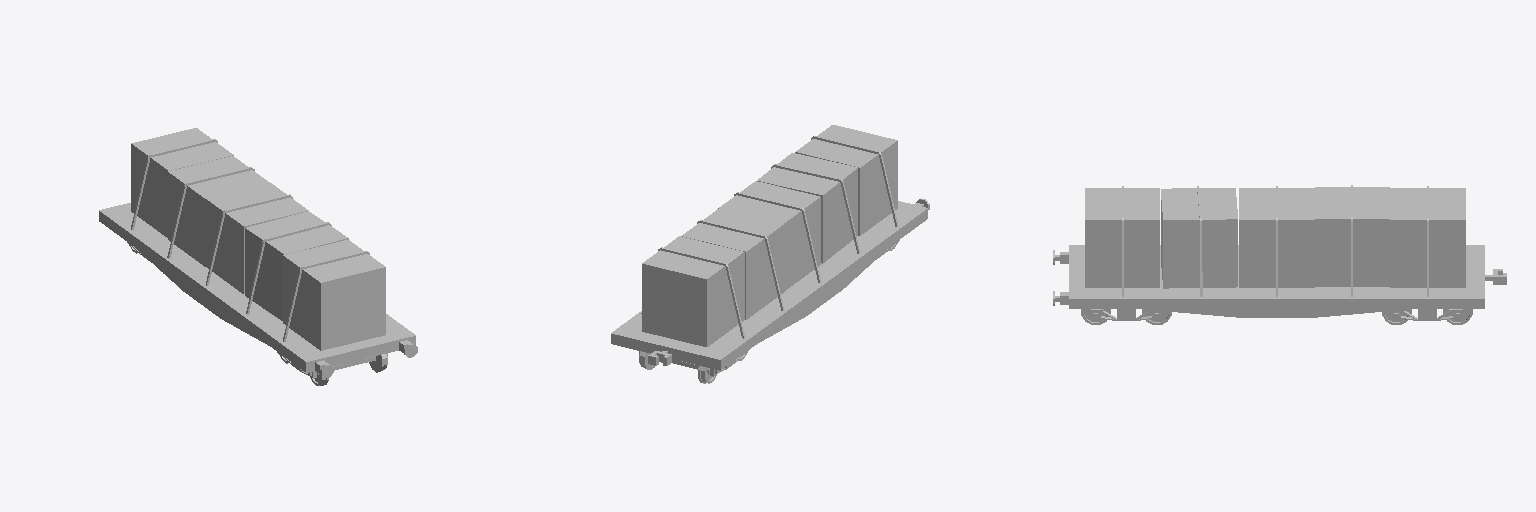
File: dlxtrains_industrial_wagons_transition_type1_loaded5.obj
3 renders of one model, left to right at view 1: azimuth 30°, elevation 25°; view 2: azimuth 150°, elevation 25°; view 3: azimuth 270°, elevation 25°, orthographic.
Visible parts, largest first — view 1: dlxtrains_industrial_wagons_transition_type1_loaded5; view 2: dlxtrains_industrial_wagons_transition_type1_loaded5; view 3: dlxtrains_industrial_wagons_transition_type1_loaded5.
Boxes of the visible parts, x1=… form: dlxtrains_industrial_wagons_transition_type1_loaded5: x1=99, y1=128, x2=417, y2=385; dlxtrains_industrial_wagons_transition_type1_loaded5: x1=611, y1=125, x2=929, y2=383; dlxtrains_industrial_wagons_transition_type1_loaded5: x1=1053, y1=185, x2=1506, y2=324.
Size of the model in its own units: 16.88 by 15.98 by 60.44.